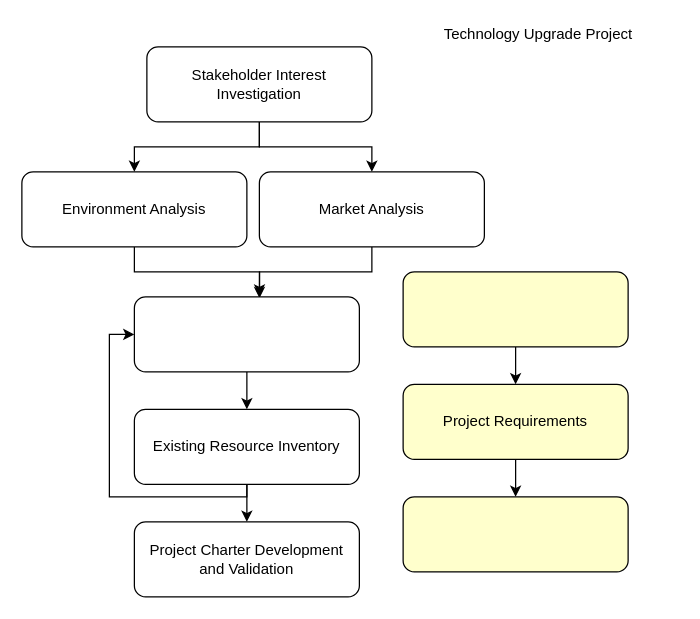
Image size: 700x619. Some labels were removed from this diagram. Here are the shapes that lost their labels. From the top down, the centre of each, then its label:
point 515,309: Problem Analysis and Research
point 246,334: Budget Research
point 515,534: Vendor Meetings and Research
